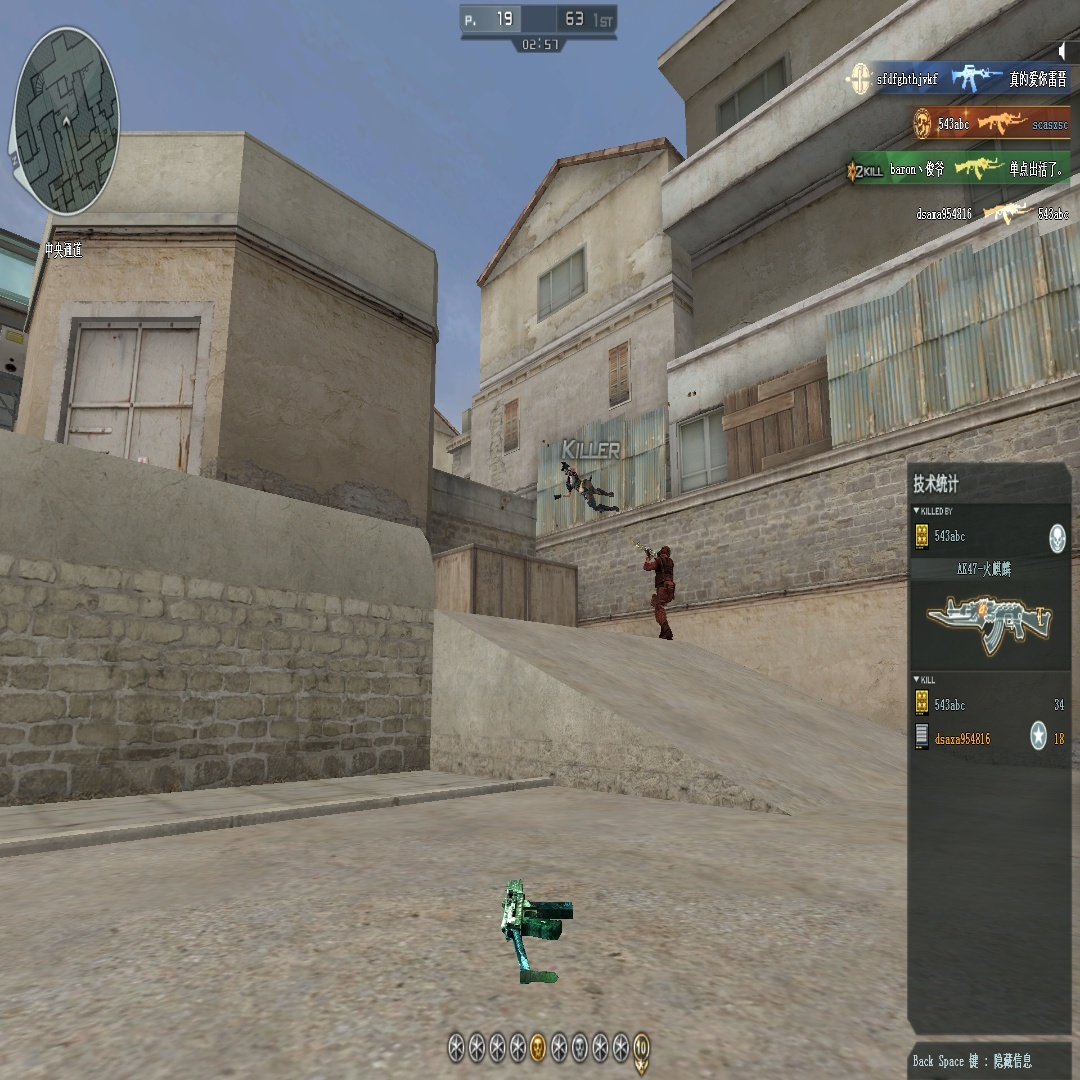p: (640, 542, 675, 640)
